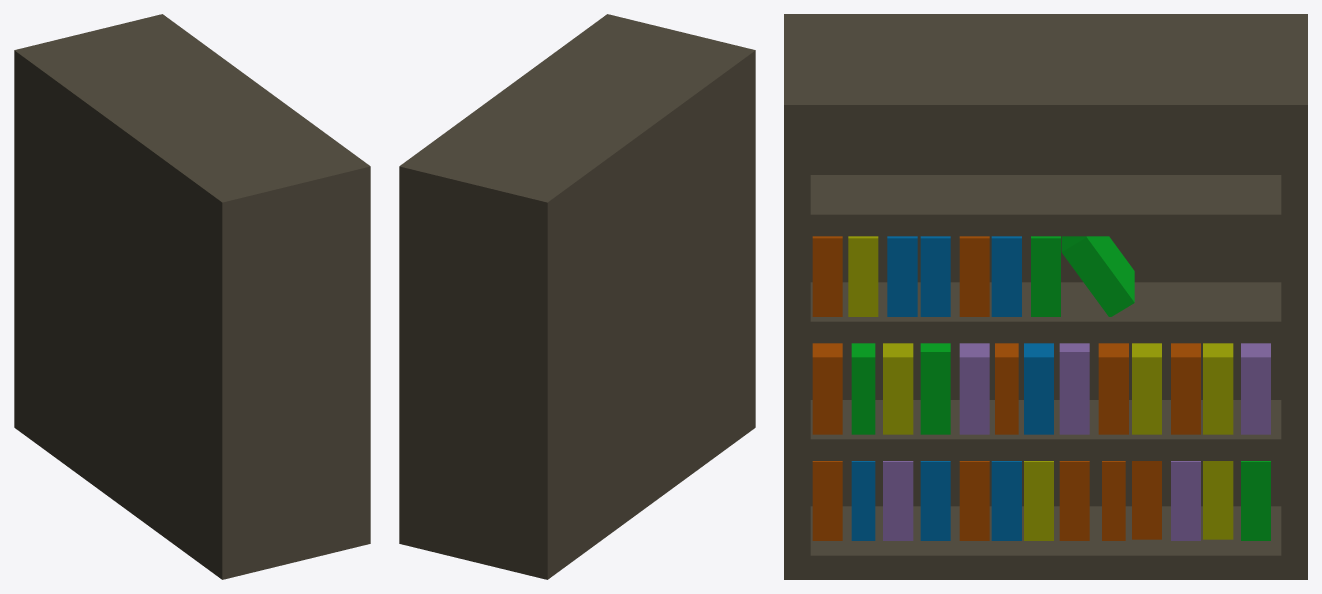
File: VR_bookshelf.fbx
3 renders of one model, left to right at view 1: azimuth 30°, elevation 25°; view 2: azimuth 150°, elevation 25°; view 3: azimuth 270°, elevation 25°, orthographic. The views are drawn at different scales.
Parts seen in each view (by area): view 1: pCube40; view 2: pCube40; view 3: pCube40.
Boxes of the visible parts, x1=… form: pCube40: x1=14, y1=14, x2=370, y2=579; pCube40: x1=399, y1=14, x2=755, y2=579; pCube40: x1=784, y1=14, x2=1307, y2=579.
Size of the model in its own units: 2.2 by 5.35 by 5.35.
